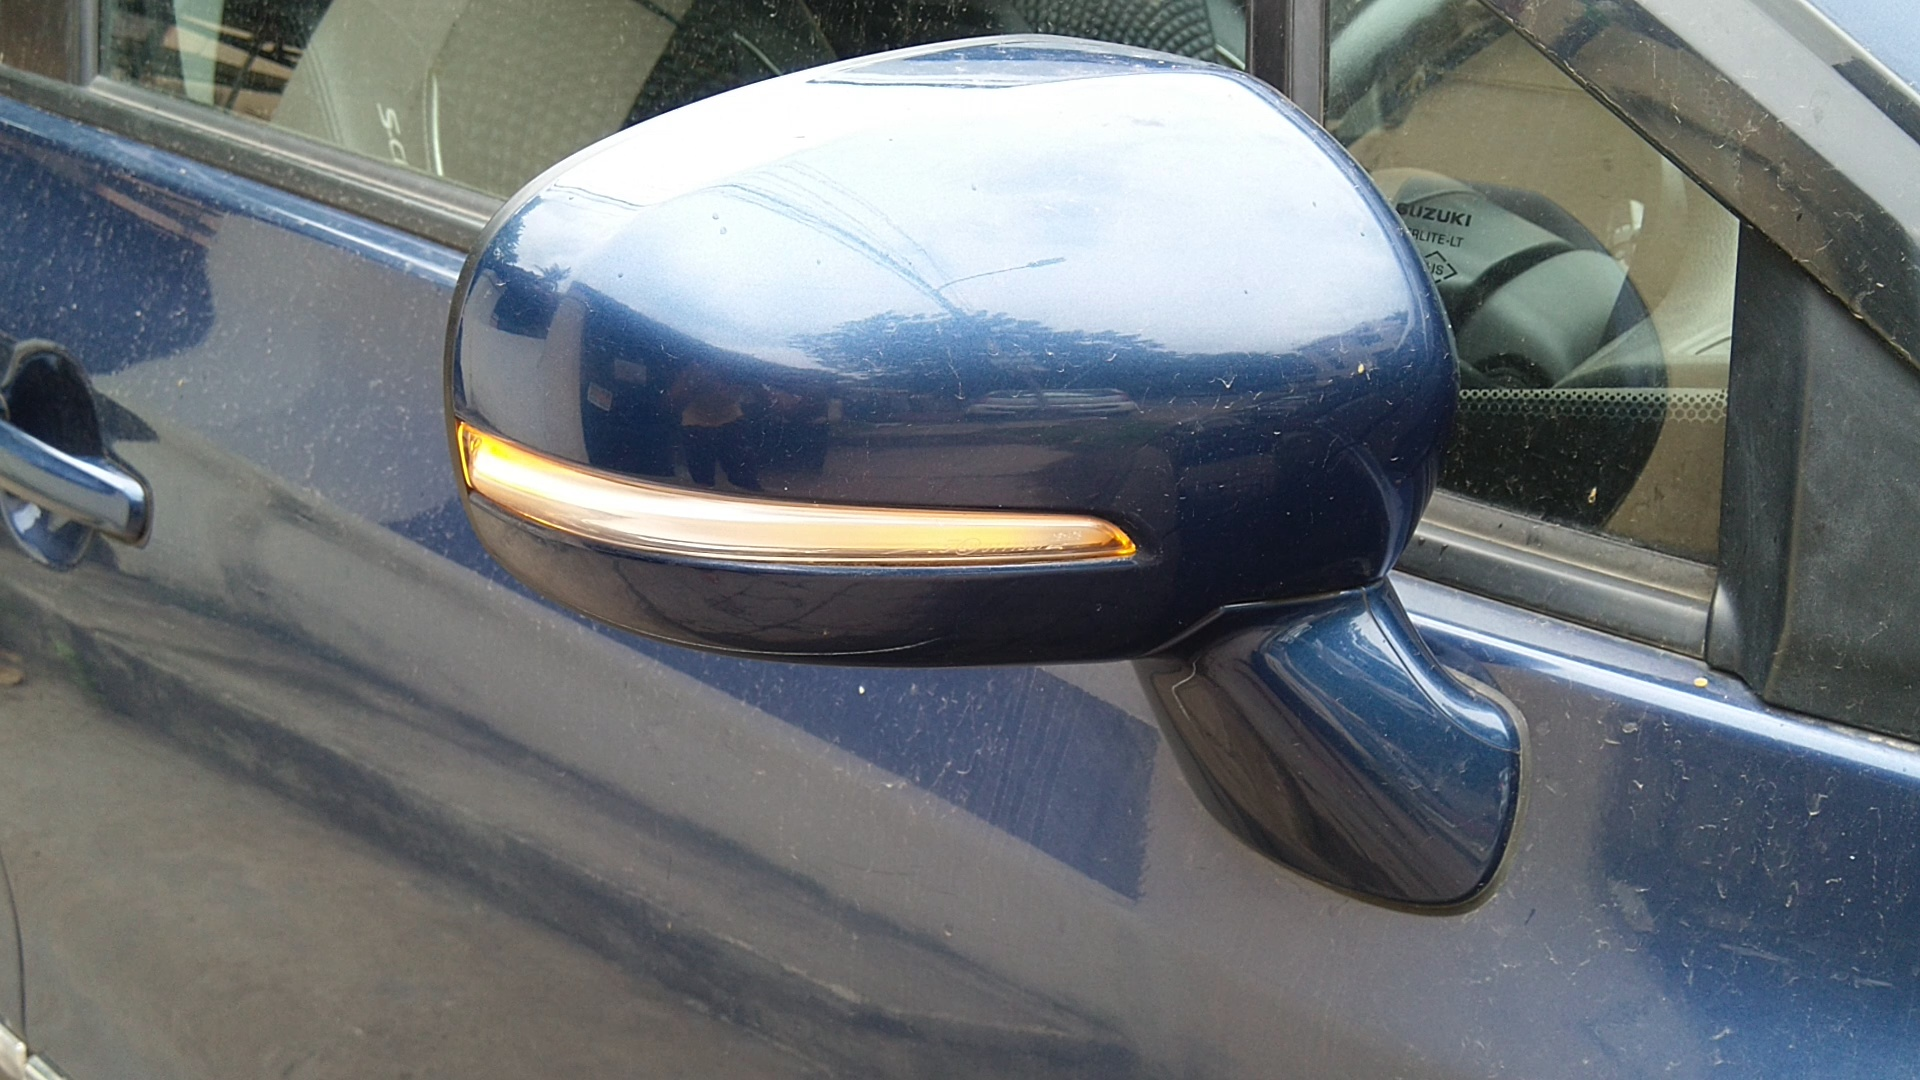ovr_mirror: (415, 26, 1567, 938)
